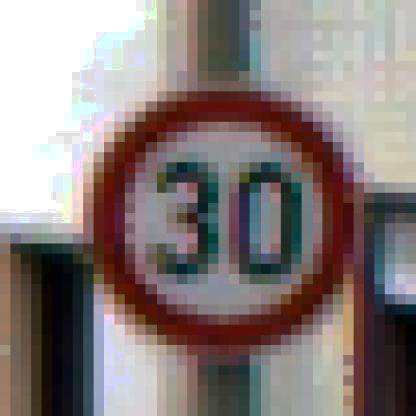Speed Limit -30-: (79, 81, 368, 358)
